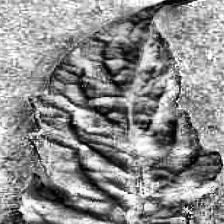leaf mold: (10, 0, 220, 224)
